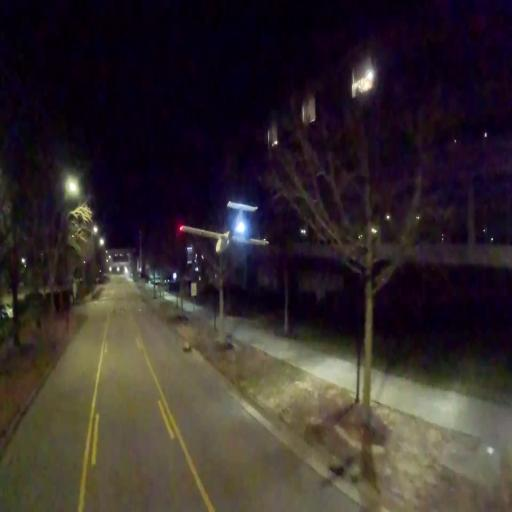uav: (178, 192, 272, 260)
